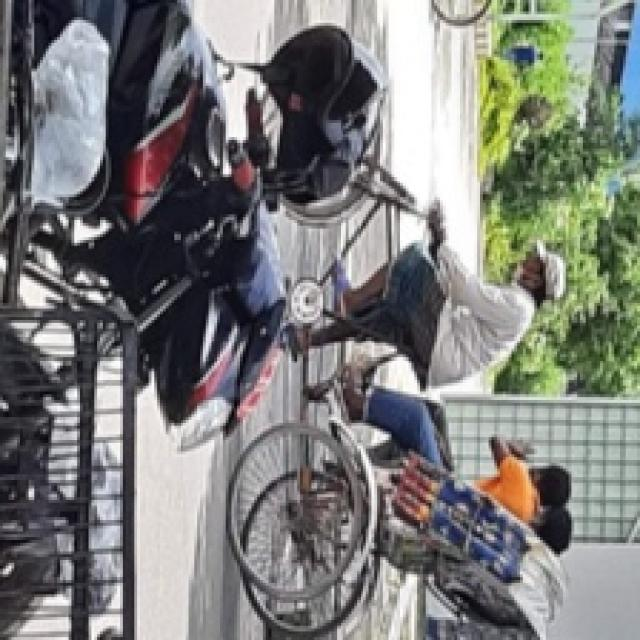bike: (72, 8, 298, 440)
rickshaw: (264, 222, 588, 633)
